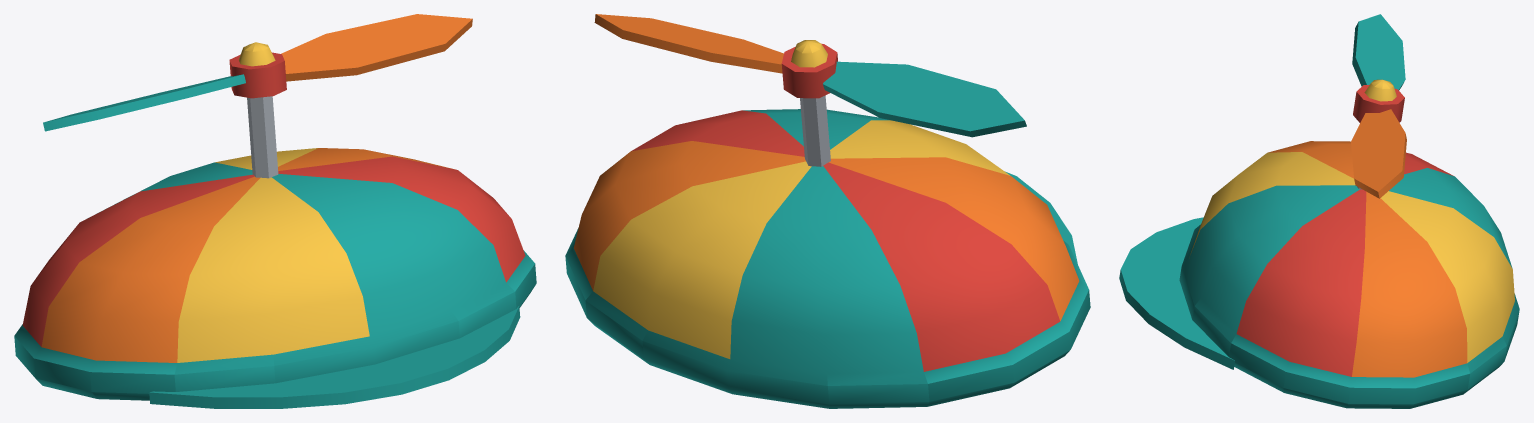
Rendered from GorroHelice.fbx.
3 views of the same model, side by side, from view 1: azimuth 30°, elevation 25°; view 2: azimuth 150°, elevation 25°; view 3: azimuth 270°, elevation 25° (orthographic). The views are drawn at different scales.
Visible parts, largest first — view 1: GorroHelice; view 2: GorroHelice; view 3: GorroHelice.
Boxes of the visible parts, <box> form: GorroHelice: <box>14,14,536,408</box>; GorroHelice: <box>565,14,1090,408</box>; GorroHelice: <box>1119,14,1519,408</box>.
Size of the model in its own units: 1.16 by 0.68 by 0.98.
1 material, 1 textured.
